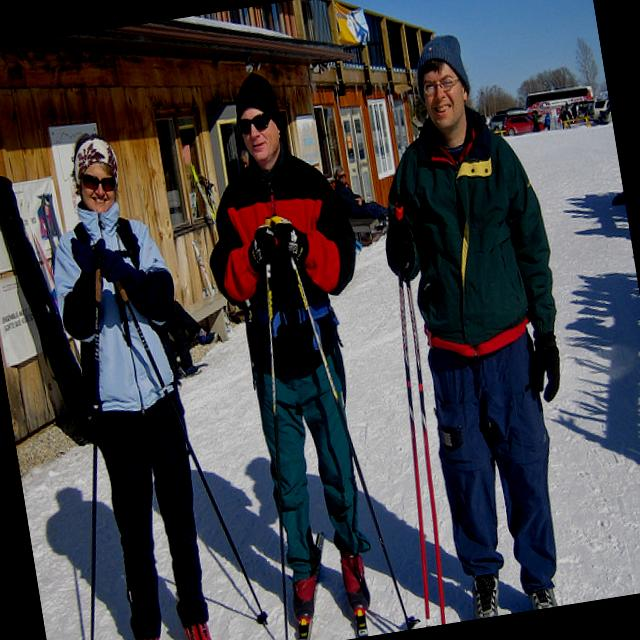Vehicle: (523, 82, 596, 120), (502, 112, 546, 138), (590, 98, 612, 121), (526, 100, 554, 117), (489, 114, 510, 132), (581, 102, 596, 119), (600, 103, 612, 124), (575, 100, 586, 118)
